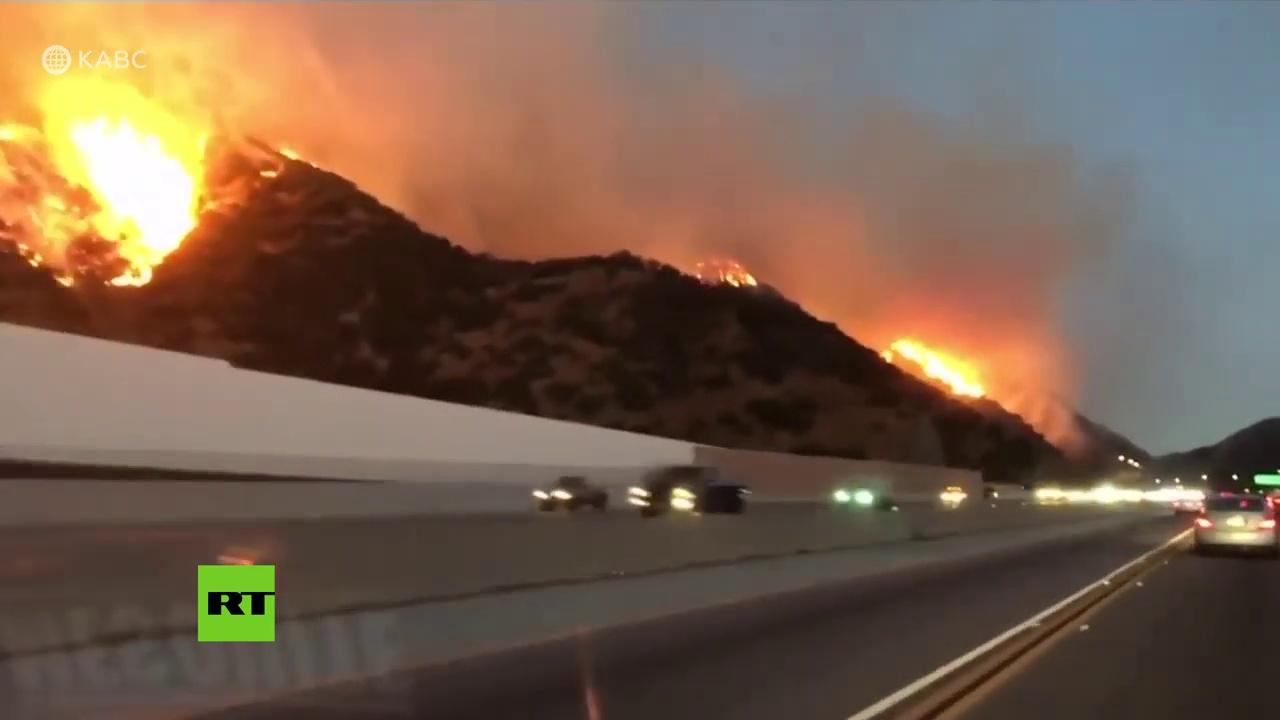Fire: (2, 82, 209, 292), (884, 335, 988, 402), (716, 261, 757, 291), (263, 146, 298, 181)
